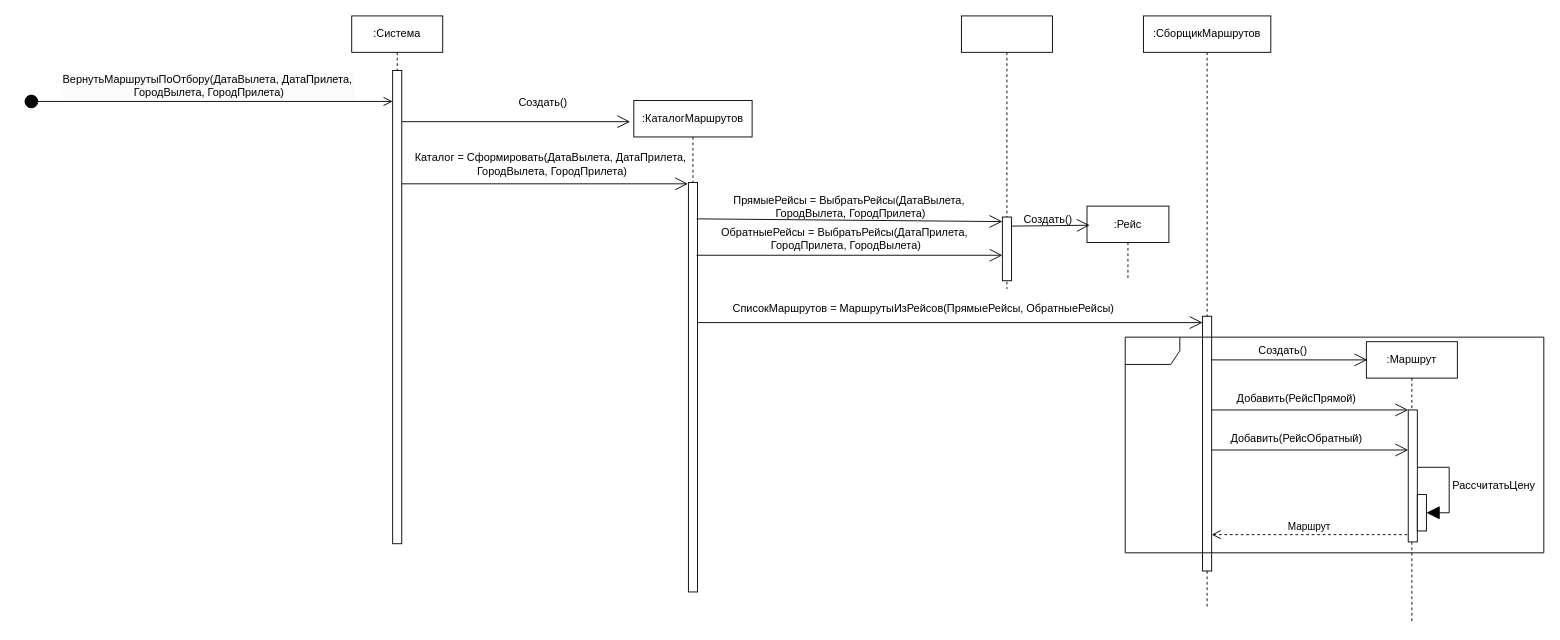
The diagram is 1560 pixels wide and 640 high, and some of its shapes have lost their labels. Here are the shapes that lost their labels. From the top down, the box of each, then its label:
(961, 15, 1052, 289): :КаталогРейсов
(1124, 336, 1544, 553): loop
